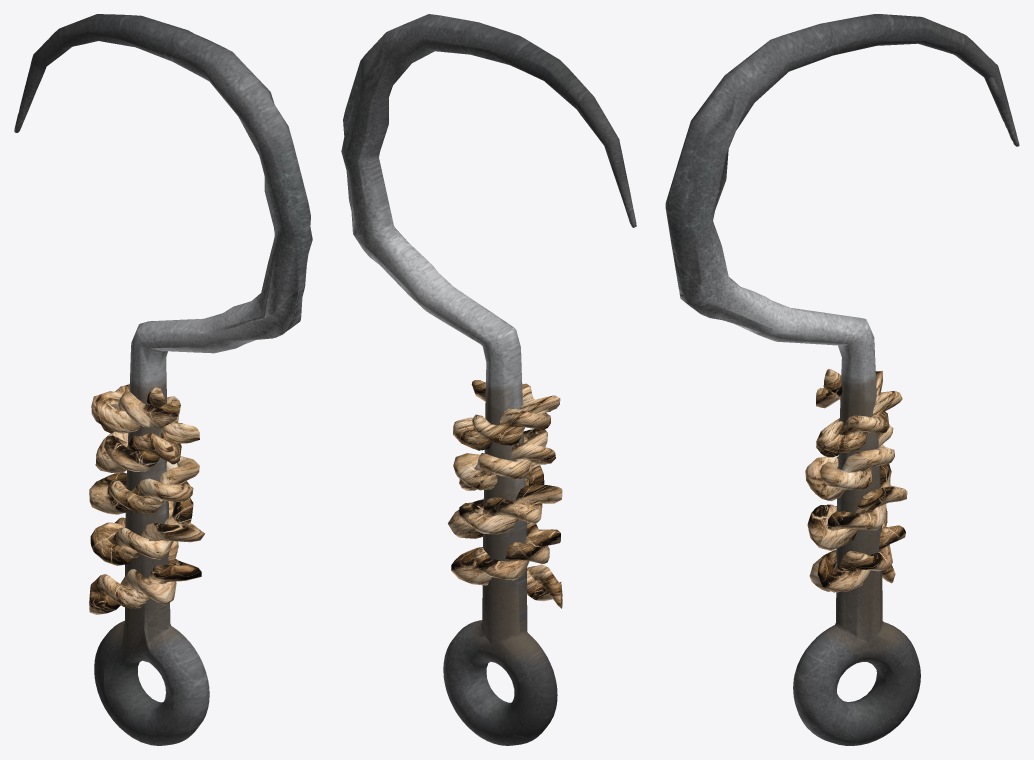
The model's file is Plastic_Hook.glb.
The picture shows the model from 3 angles, left to right: view 1: azimuth 30°, elevation 25°; view 2: azimuth 210°, elevation 25°; view 3: azimuth 270°, elevation 25°; orthographic projection.
Parts seen in each view (by area): view 1: Cylinder; view 2: Cylinder; view 3: Cylinder.
Boxes of the visible parts, x1=… form: Cylinder: x1=14, y1=14, x2=312, y2=745; Cylinder: x1=341, y1=14, x2=636, y2=745; Cylinder: x1=665, y1=14, x2=1019, y2=745.
Bounding box in the file's own units: 0.1962 × 1.01 × 0.448.
2 materials, 2 textured.
